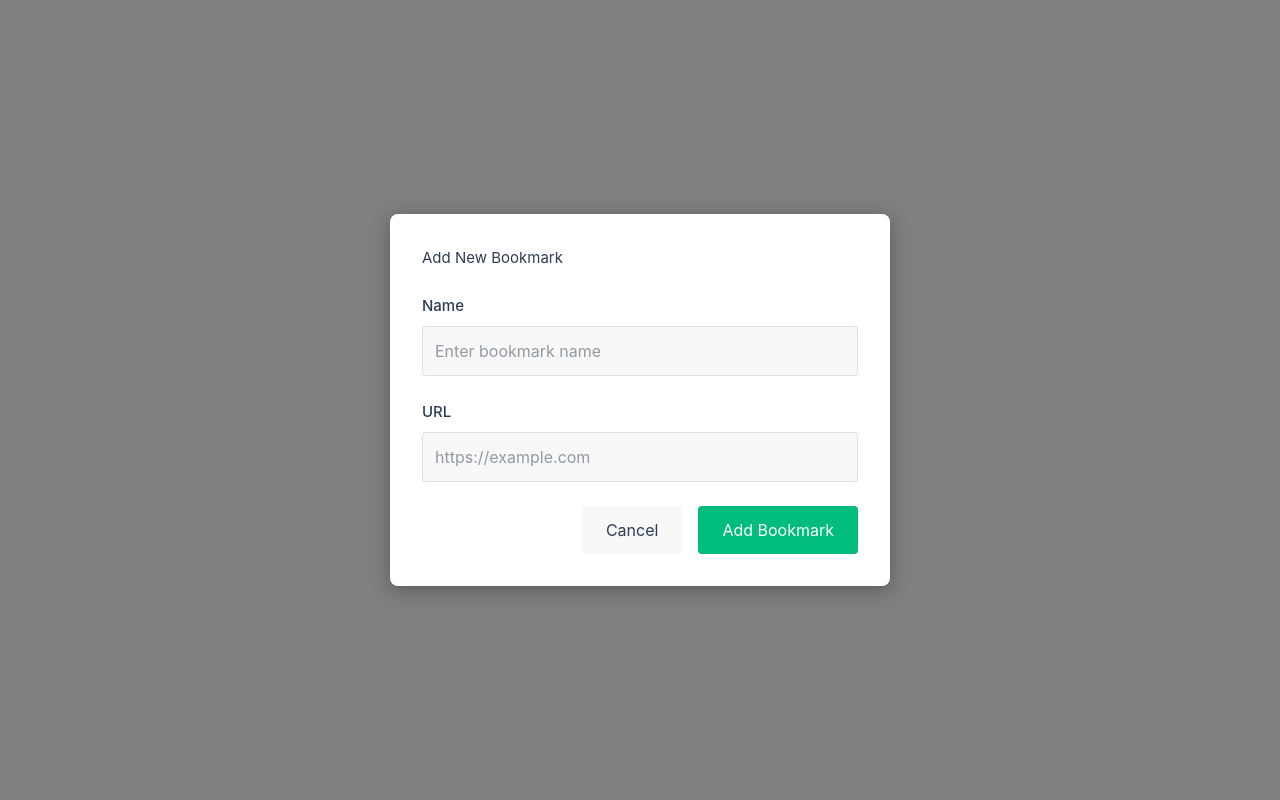
Test: AddBookmarkForm › validates that URL is required
The image size is (1280, 800).
Type "Test Bookmark" into the field with id "bookmark-name".
click(640, 351); type("Test Bookmark")  # box top-left (422, 326), bottom-right (858, 376)
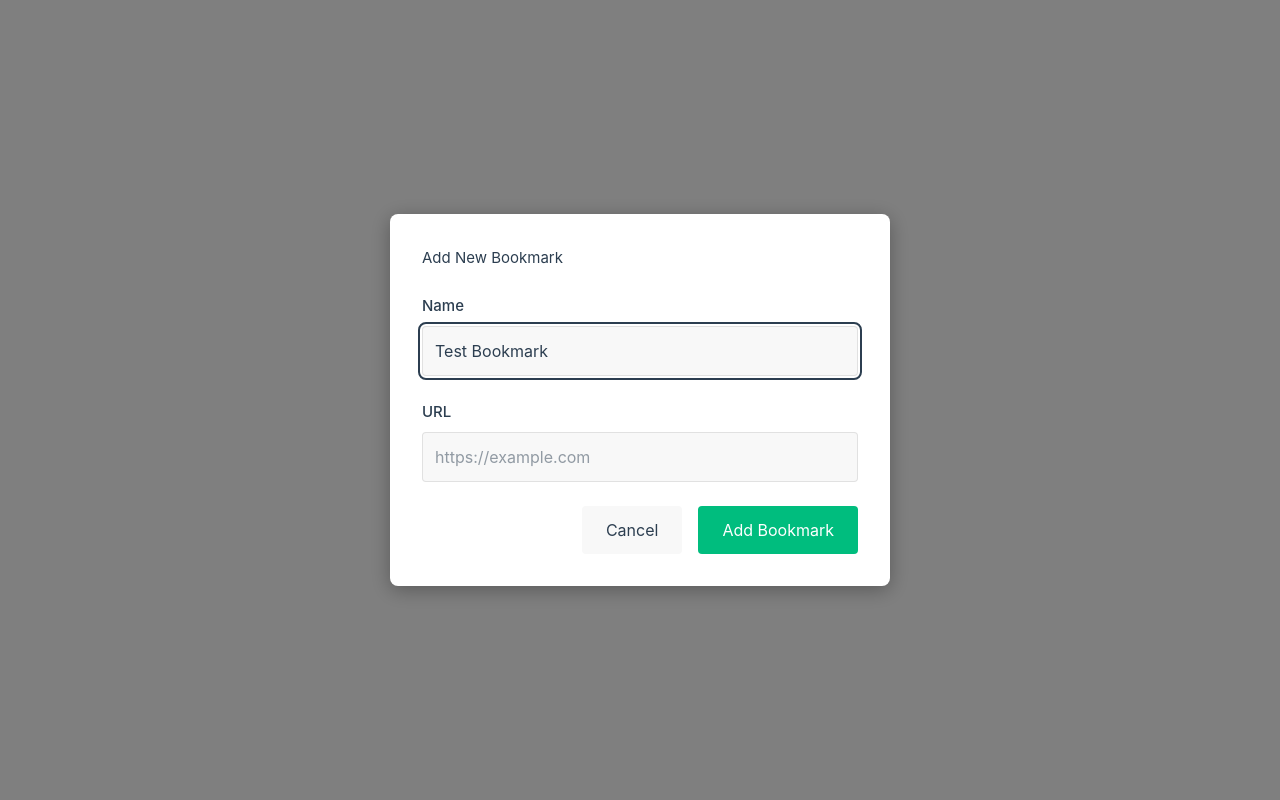
Submit the form, box top-left (422, 294), bottom-right (858, 554)
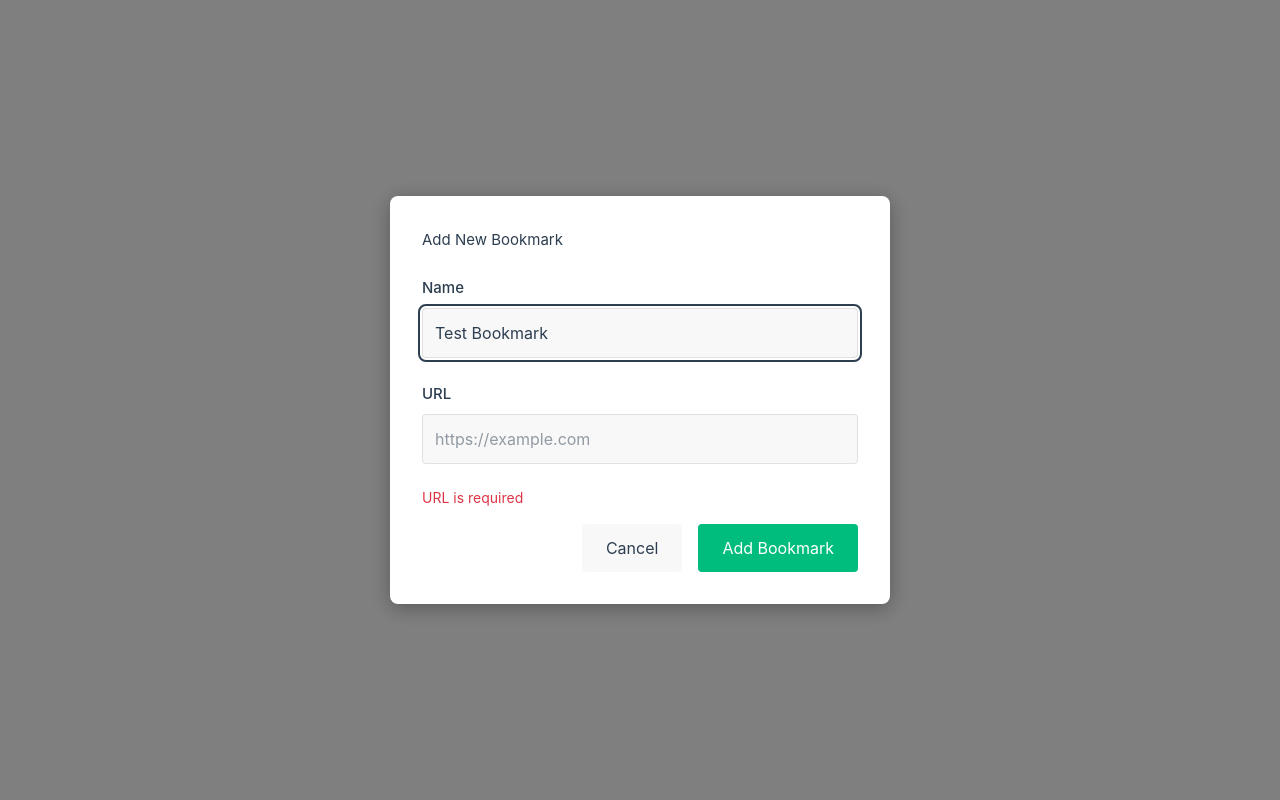
Expected: the text "URL is required" is shown, top-left (422, 489), bottom-right (523, 506)
